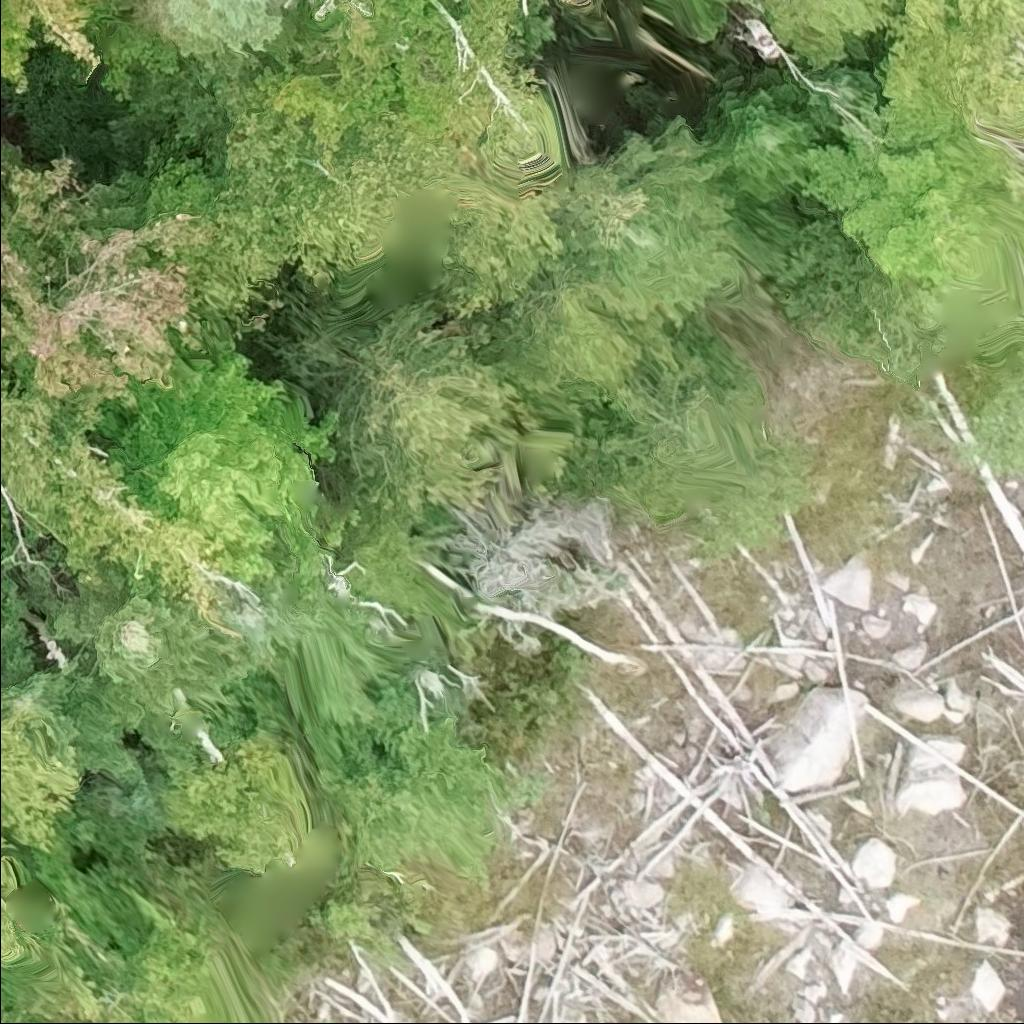crown: (0, 349, 275, 640), (0, 136, 280, 410), (166, 63, 461, 288), (275, 302, 529, 510), (102, 349, 339, 541), (571, 116, 746, 328), (43, 563, 228, 724), (465, 271, 649, 399), (160, 727, 318, 873), (0, 644, 147, 786), (691, 60, 829, 204), (872, 0, 1023, 118), (0, 713, 84, 850), (0, 0, 117, 95), (150, 0, 284, 82), (798, 60, 879, 130), (0, 853, 27, 962), (0, 491, 10, 545)
